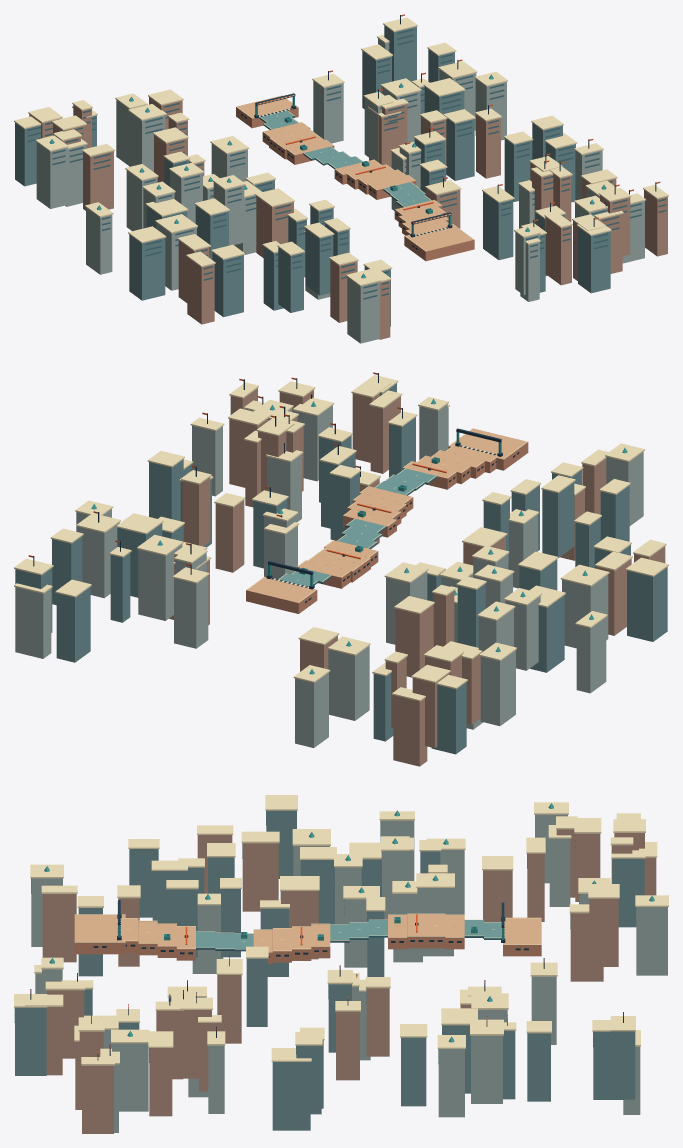
Rendered from harbor.glb.
3 renders of one model, top to bottom at view 1: azimuth 30°, elevation 25°; view 2: azimuth 150°, elevation 25°; view 3: azimuth 270°, elevation 25°, orthographic. The views are drawn at different scales.
Parts seen in each view (by area): view 1: HarborPart_746, HarborPart_702, HarborPart_563, HarborPart_768, HarborPart_365, HarborPart_482, HarborPart_717, HarborPart_795, HarborPart_558, HarborPart_658, HarborPart_448, HarborPart_470 (+48 smaller); view 2: HarborPart_438, HarborPart_746, HarborPart_585, HarborPart_685, HarborPart_768, HarborPart_717, HarborPart_531, HarborPart_404, HarborPart_690, HarborPart_448, HarborPart_470, HarborPart_426 (+51 smaller); view 3: HarborPart_729, HarborPart_492, HarborPart_624, HarborPart_404, HarborPart_409, HarborPart_563, HarborPart_651, HarborPart_751, HarborPart_526, HarborPart_553, HarborPart_795, HarborPart_514 (+64 smaller).
Part boxes in pixels (<box>): HarborPart_746: <box>129,234,165,300</box>; HarborPart_702: <box>347,277,379,343</box>; HarborPart_563: <box>578,227,610,293</box>; HarborPart_768: <box>36,142,67,208</box>; HarborPart_365: <box>483,192,513,259</box>; HarborPart_482: <box>212,252,243,317</box>; HarborPart_717: <box>313,81,343,143</box>; HarborPart_795: <box>446,118,474,180</box>; HarborPart_558: <box>187,257,214,324</box>; HarborPart_658: <box>83,151,113,210</box>; HarborPart_448: <box>305,228,333,295</box>; HarborPart_470: <box>86,207,112,274</box>; HarborPart_438: <box>328,646,369,720</box>; HarborPart_746: <box>627,567,667,641</box>; HarborPart_585: <box>15,587,51,658</box>; HarborPart_685: <box>138,544,182,620</box>; HarborPart_768: <box>480,650,515,725</box>; HarborPart_717: <box>174,575,208,648</box>; HarborPart_531: <box>56,587,90,662</box>; HarborPart_404: <box>295,672,328,747</box>; HarborPart_690: <box>393,695,427,766</box>; HarborPart_448: <box>542,482,574,557</box>; HarborPart_470: <box>576,617,606,693</box>; HarborPart_426: <box>395,604,433,677</box>; HarborPart_729: <box>272,1062,310,1130</box>; HarborPart_492: <box>242,843,278,911</box>; HarborPart_624: <box>42,894,76,962</box>; HarborPart_404: <box>636,907,667,975</box>; HarborPart_409: <box>82,1065,113,1133</box>; HarborPart_563: <box>15,1007,46,1075</box>; HarborPart_651: <box>471,1035,502,1103</box>; HarborPart_751: <box>112,1043,148,1111</box>; HarborPart_526: <box>589,898,618,966</box>; HarborPart_553: <box>438,1049,464,1117</box>; HarborPart_795: <box>401,1037,426,1106</box>; HarborPart_514: <box>612,858,644,927</box>.
Size of the model in its own units: 194 by 37.76 by 205.
